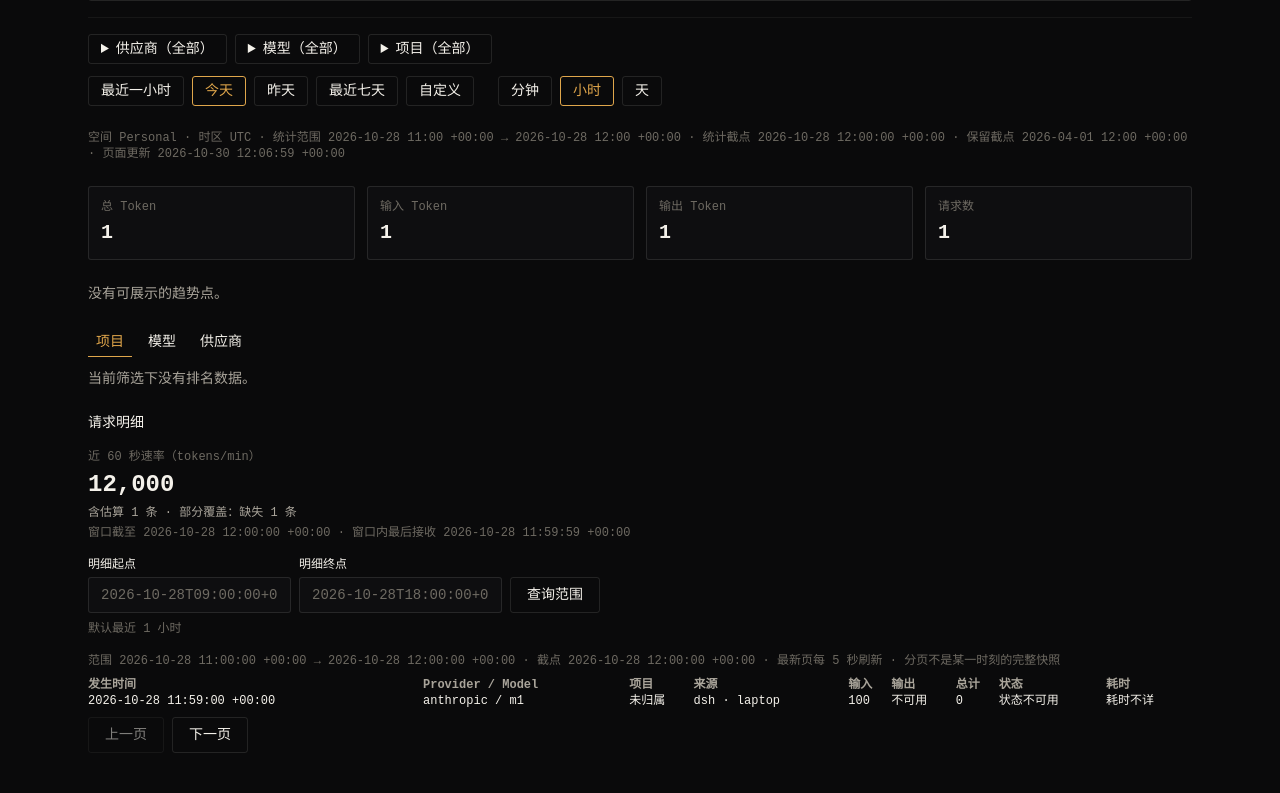
request log panel › queries a chosen historical range, keeps it on every page and resets the cursor when it changes
The image size is (1280, 793).
(page scrolled)
Expected: the row with test id "request-row" is shown, left=88, top=693, right=1192, bottom=709
Type "2026-09-01T00:00:00Z" into the field labelled "明细起点" at [190, 595], box left=88, top=577, right=291, bottom=613
Type "2026-09-02T00:00:00Z" into the field labelled "明细终点" at [400, 595], box left=299, top=577, right=502, bottom=613
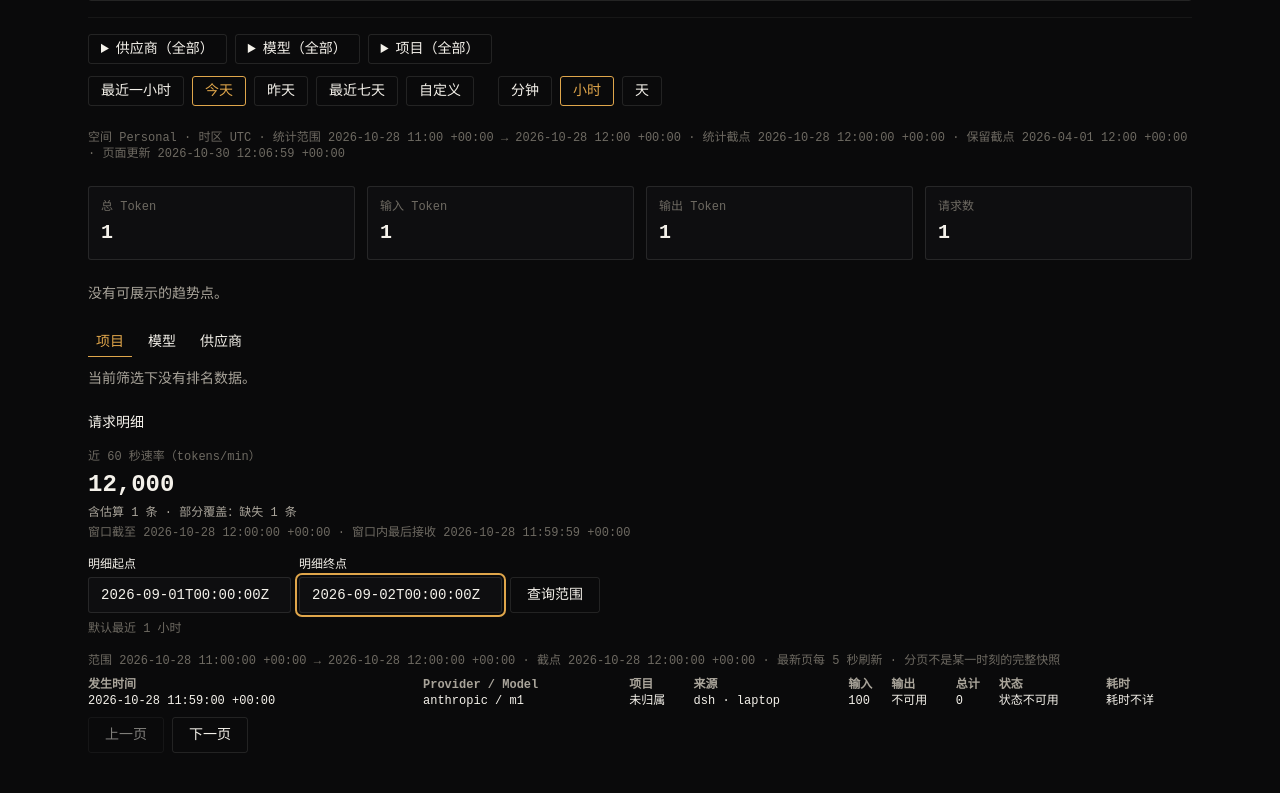
Click the button "查询范围" at [555, 595], box left=510, top=577, right=600, bottom=613
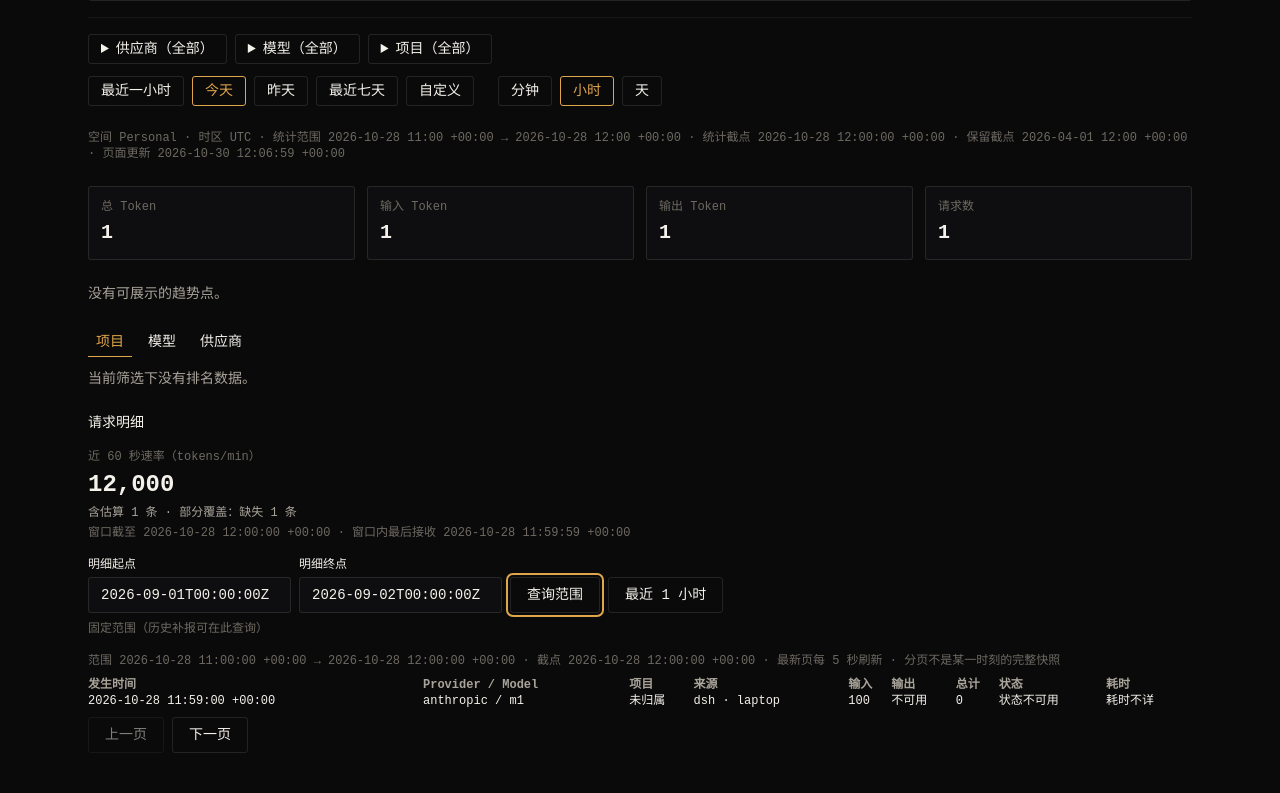
Click the button "下一页" at [210, 735], box left=172, top=717, right=248, bottom=753
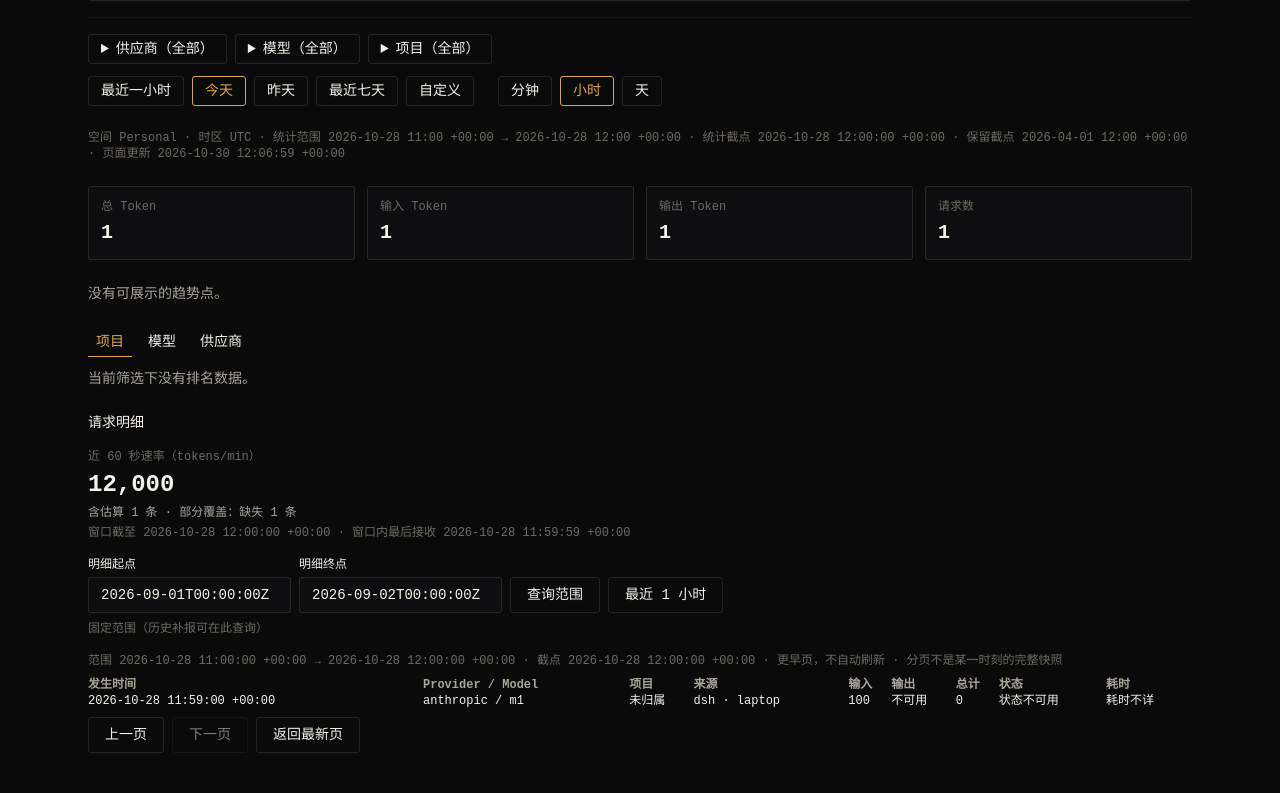
Replace the text in the field labelled "明细终点" with "2026-09-03T00:00:00Z" at [400, 595], box left=299, top=577, right=502, bottom=613
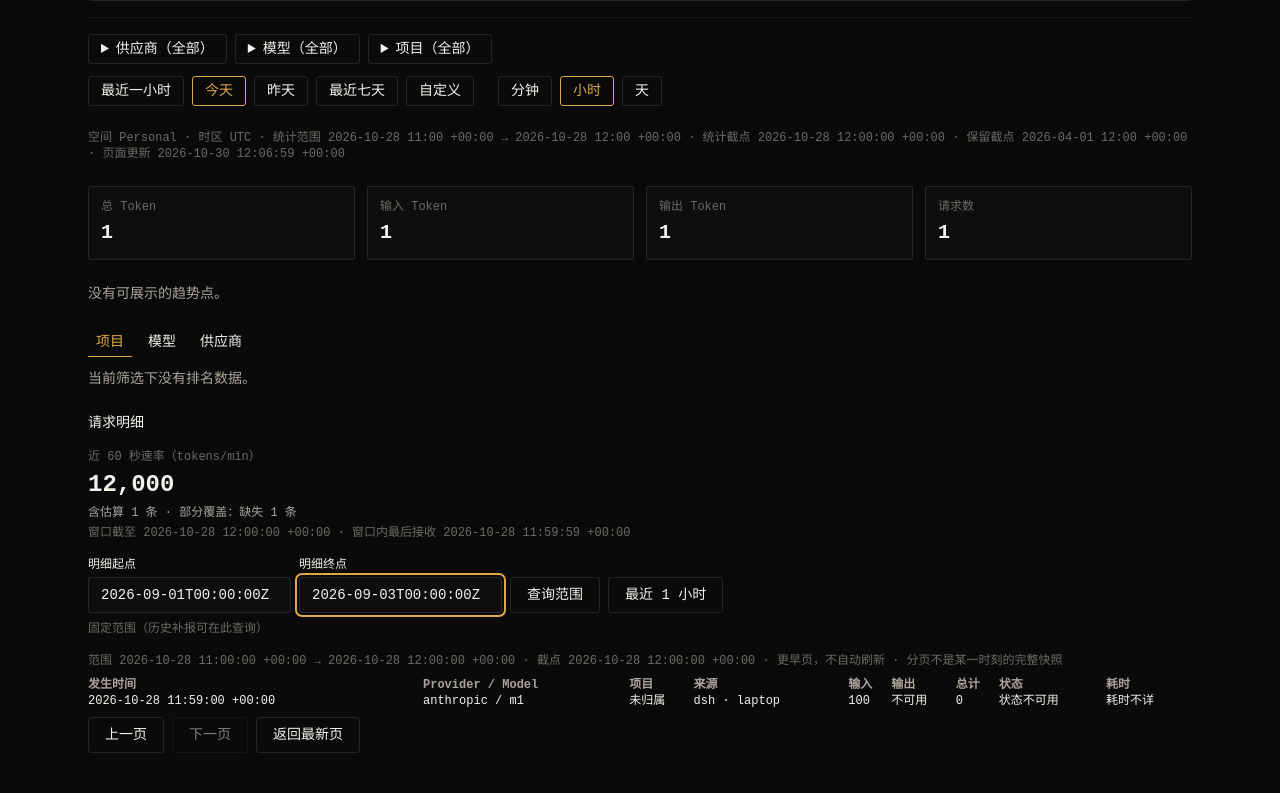
Click the button "查询范围" at [555, 595], box left=510, top=577, right=600, bottom=613
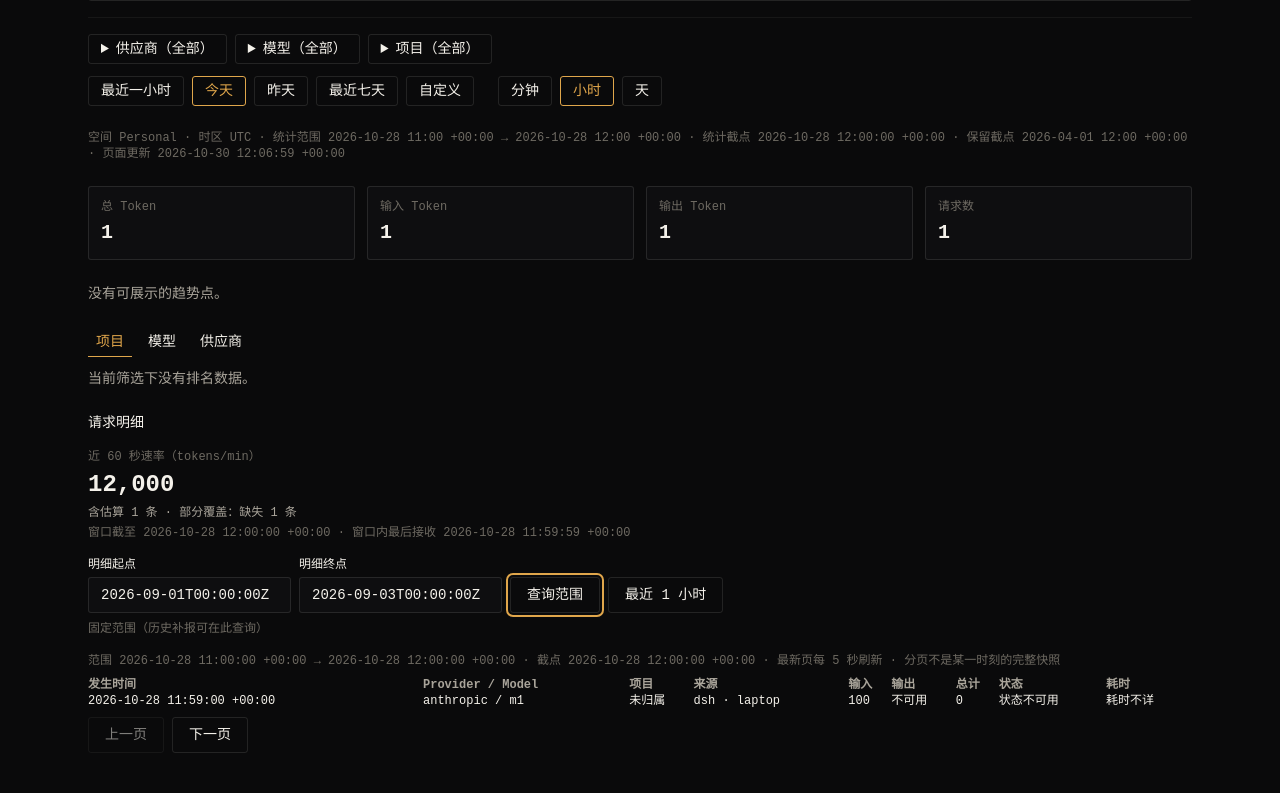
Click the button "最近 1 小时" at [666, 595], box left=608, top=577, right=723, bottom=613
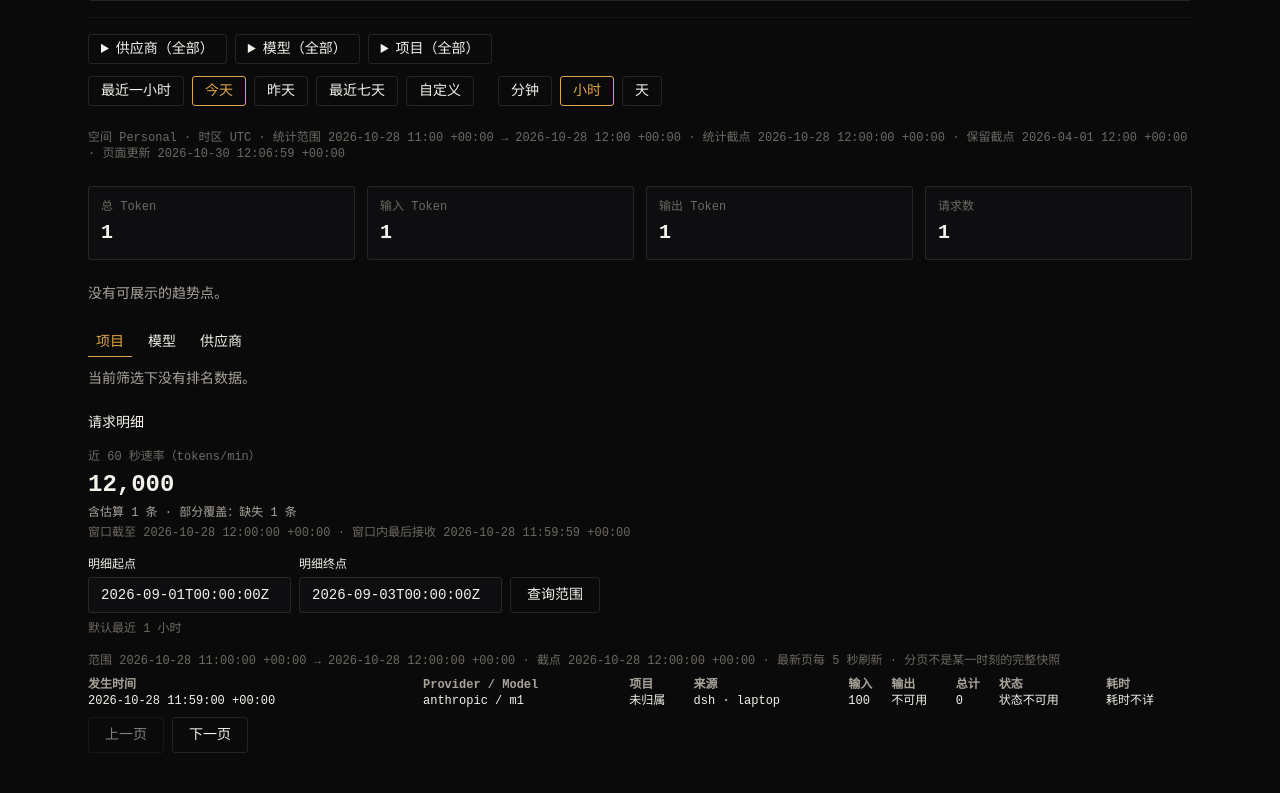
Result: the text "默认最近 1 小时" is shown at left=88, top=622, right=182, bottom=636
